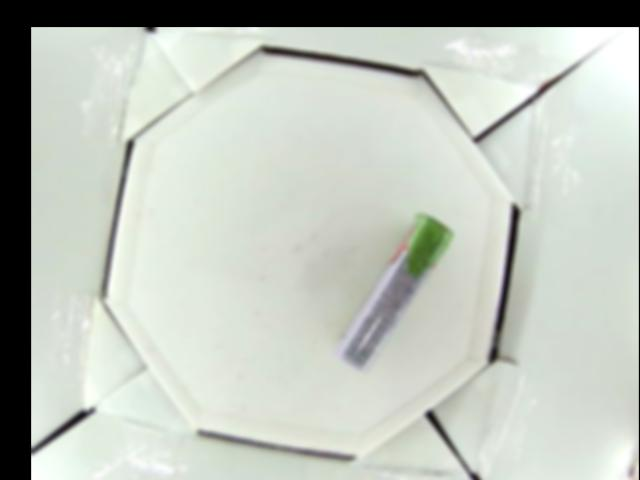Bottle: (331, 214, 451, 371)
